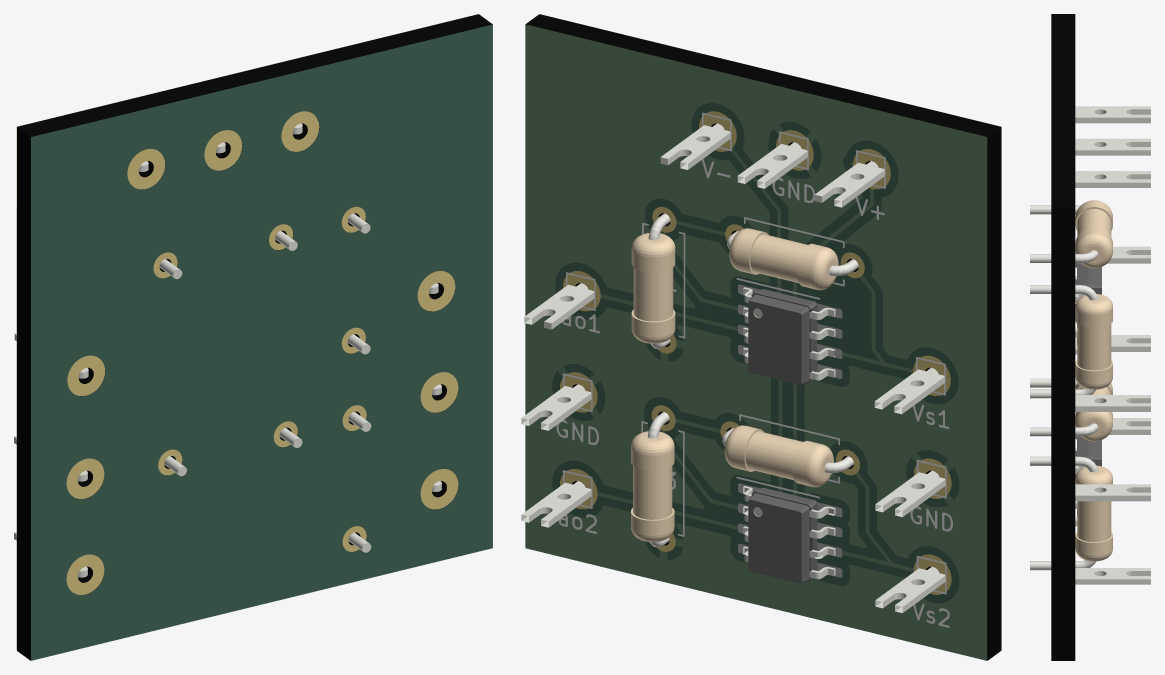
File: CMS.glb
The picture shows the model from 3 angles, left to right: view 1: azimuth 30°, elevation 25°; view 2: azimuth 150°, elevation 25°; view 3: azimuth 270°, elevation 25°; orthographic projection. The views are drawn at different scales.
Parts seen in each view (by area): view 1: SHAPE_1_IndexedFaceSet; view 2: SHAPE_1_IndexedFaceSet; view 3: SHAPE_1_IndexedFaceSet.
Part boxes in pixels (box(x1,y1,x2,y2)): SHAPE_1_IndexedFaceSet: box(14, 14, 492, 660); SHAPE_1_IndexedFaceSet: box(521, 14, 1001, 660); SHAPE_1_IndexedFaceSet: box(1030, 14, 1150, 660).
Size of the model in its own units: 0.0305 by 0.033 by 0.008.
